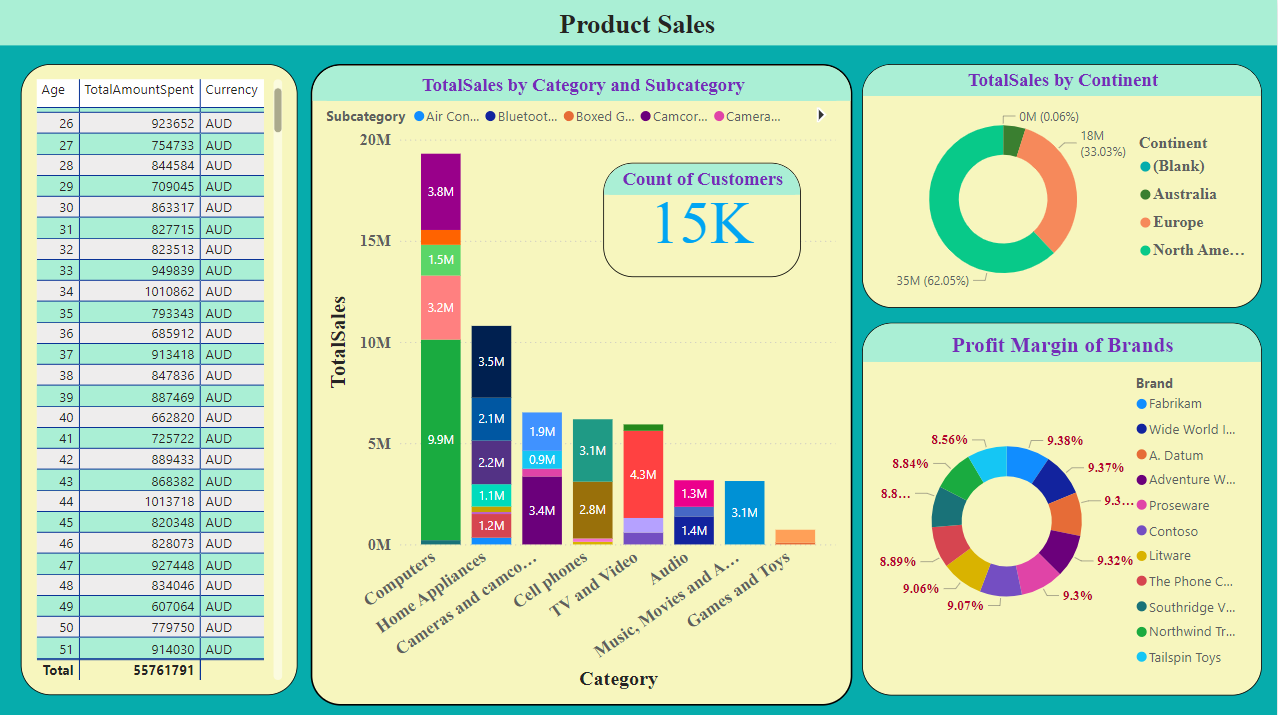

The page's visual inventory and layout, read from the dashboard file:
{"tool":"powerbi","page":{"name":"Product","canvas":[1280,720],"ordinal":1},"visuals":[{"type":"columnChart","fields":{"Y":["dataspark sale.TotalSales"],"Category":["dataspark product.Category"],"Series":["dataspark product.Subcategory"]},"box":[314.3,64.9,541.6,641.6],"z":0},{"type":"donutChart","fields":{"Y":["dataspark sale.TotalSales"],"Series":["dataspark customer.Continent"]},"box":[864.9,64.9,400,244.2],"z":1000},{"type":"tableEx","fields":{"Values":["dataspark customer.Age","dataspark exchange_rate.TotalSalesTransactionCurrency","dataspark exchange_rate.Currency"]},"box":[23.4,64.9,276.6,631.2],"z":2000},{"type":"textbox","box":[0,0,1280.5,46.8],"z":3000},{"type":"card","title":"Count of Customers","fields":{"Values":["dataspark product.Count_Customer"]},"box":[606.5,163.6,197.4,114.3],"z":4000},{"type":"donutChart","title":"Profit Margin of Brands","fields":{"Category":["dataspark product.Brand"],"Y":["dataspark product.ProfitMargin"]},"box":[864.9,323.4,400,372.7],"z":5000}]}

Visuals, with their boxes in screenshot pixels (x1, y1, x2, y2), scaled from the page's 1280x720 canvas onto the 1278x715 screenshot:
columnChart - dataspark sale.TotalSales x dataspark product.Category: region(314, 64, 855, 702)
donutChart - dataspark sale.TotalSales x dataspark customer.Continent: region(864, 64, 1263, 307)
tableEx - dataspark customer.Age x dataspark exchange_rate.TotalSalesTransactionCurrency: region(23, 64, 300, 691)
textbox: region(0, 0, 1277, 46)
"Count of Customers" card: region(606, 162, 803, 276)
"Profit Margin of Brands" donutChart: region(864, 321, 1263, 691)
